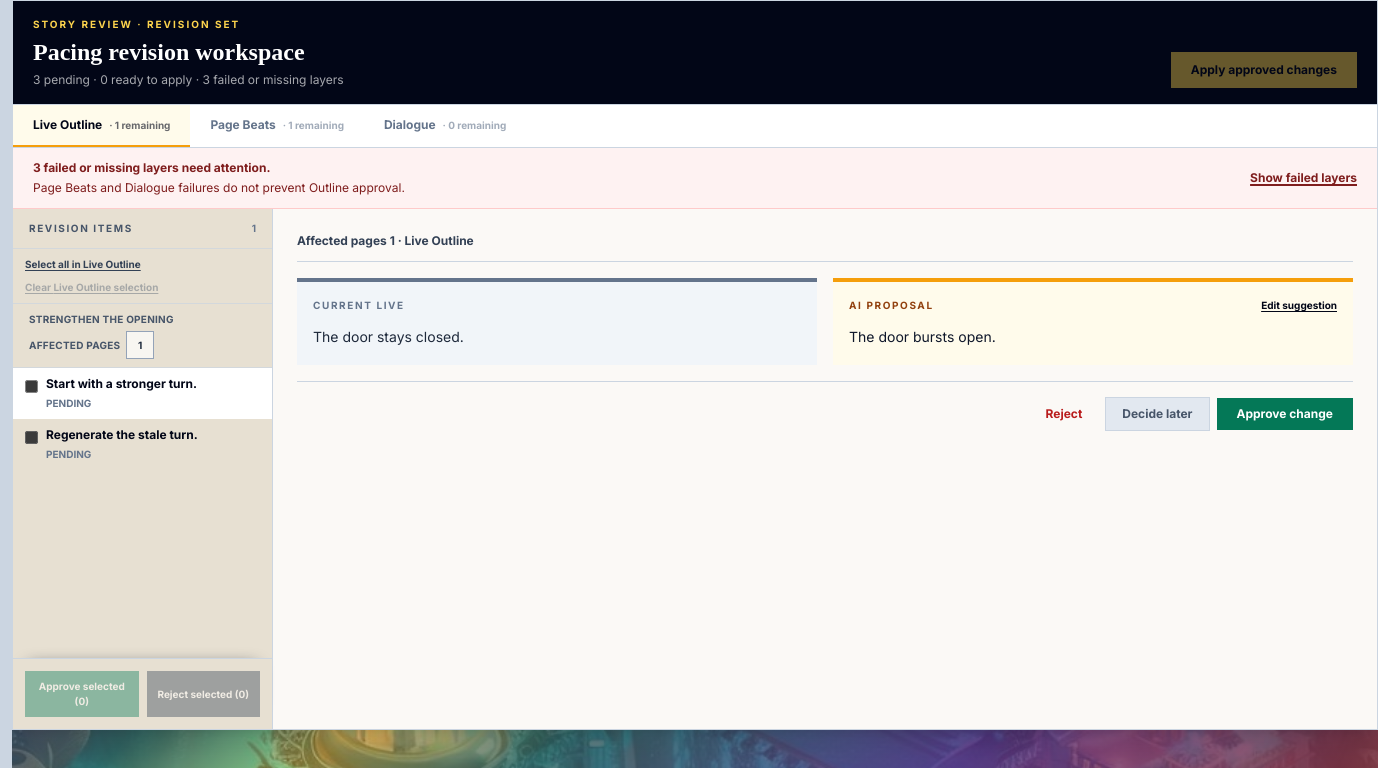
WriterPacingRevisionWorkspace › excludes non-ready active-tab changes from select all and batch counts
The image size is (1378, 768).
Click the button "Select all in Live Outline". click: (83, 264)
box: [25,257,141,272]
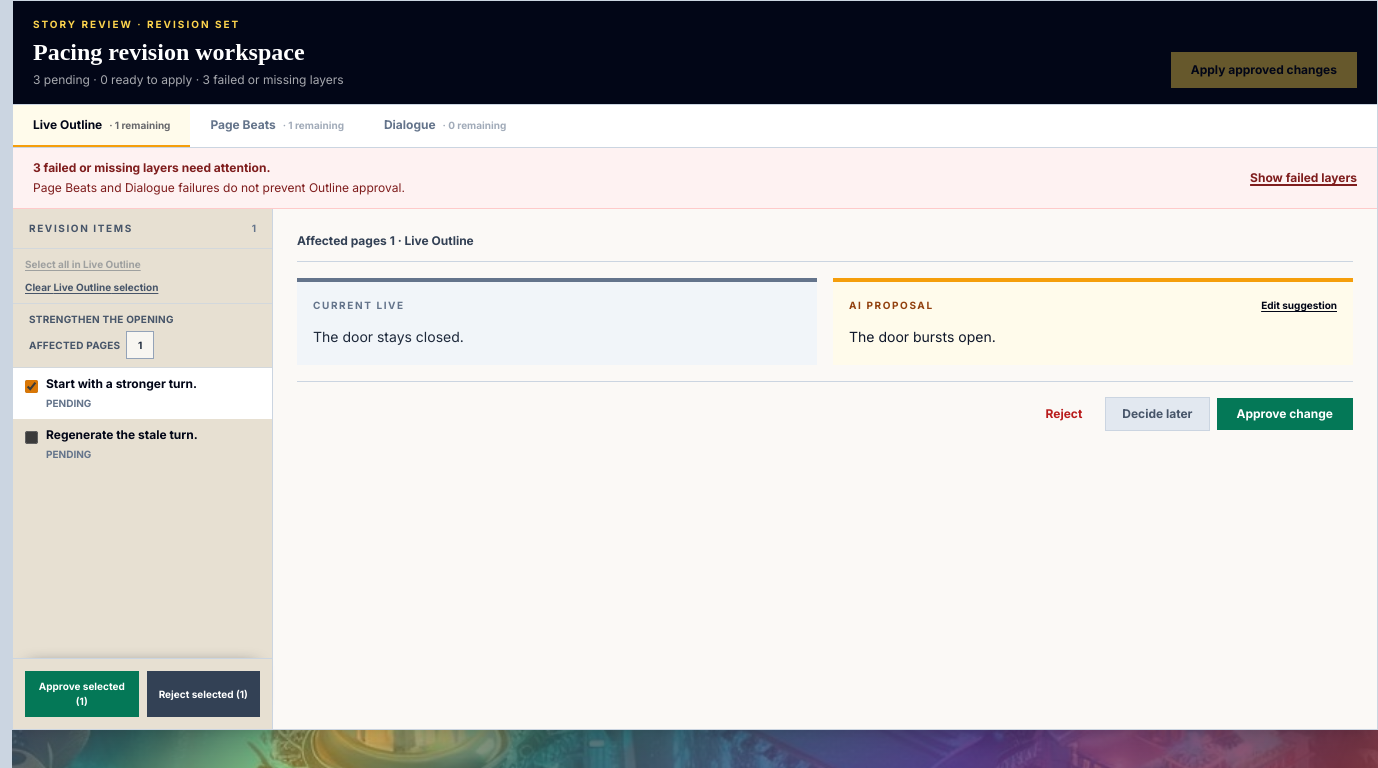
Check: the number of checkboxes named "Select Strengthen the opening outline change" is 2, box [25,380,38,393]; [25,431,38,444]
Check: the button "Approve selected (1)" is shown, box [25,671,138,717]
